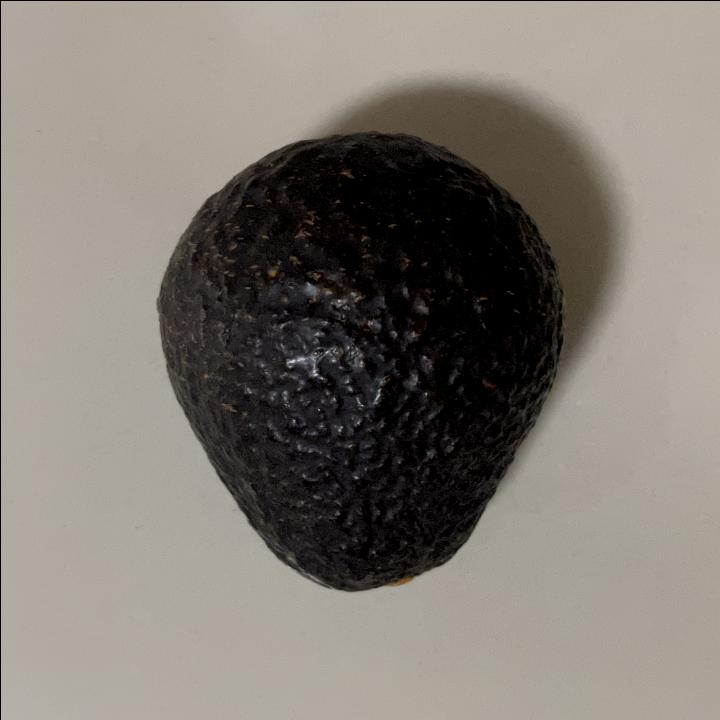Level3: (144, 124, 574, 602)
